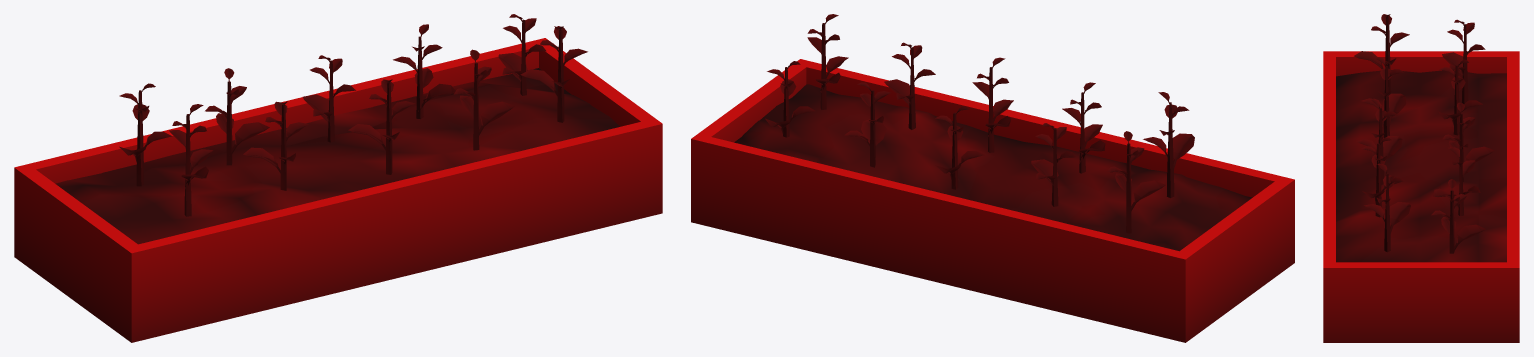
Rendered from ConcreteGardenBed002.glb.
The picture shows the model from 3 angles, left to right: view 1: azimuth 30°, elevation 25°; view 2: azimuth 150°, elevation 25°; view 3: azimuth 270°, elevation 25°; orthographic projection. The views are drawn at different scales.
Visible parts, largest first — view 1: ConcreteGardenBed002; view 2: ConcreteGardenBed002; view 3: ConcreteGardenBed002.
Boxes of the visible parts, <box> form: ConcreteGardenBed002: <box>14,14,662,342</box>; ConcreteGardenBed002: <box>691,14,1294,342</box>; ConcreteGardenBed002: <box>1323,14,1519,342</box>.
Size of the model in its own units: 10.23 by 3.4 by 3.92.
